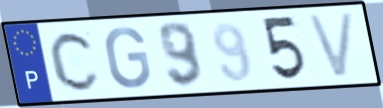5: (261, 13, 308, 84)
9: (156, 20, 205, 90), (211, 20, 254, 83)
C: (47, 29, 103, 94)
G: (103, 25, 154, 91)
V: (304, 10, 358, 82)
